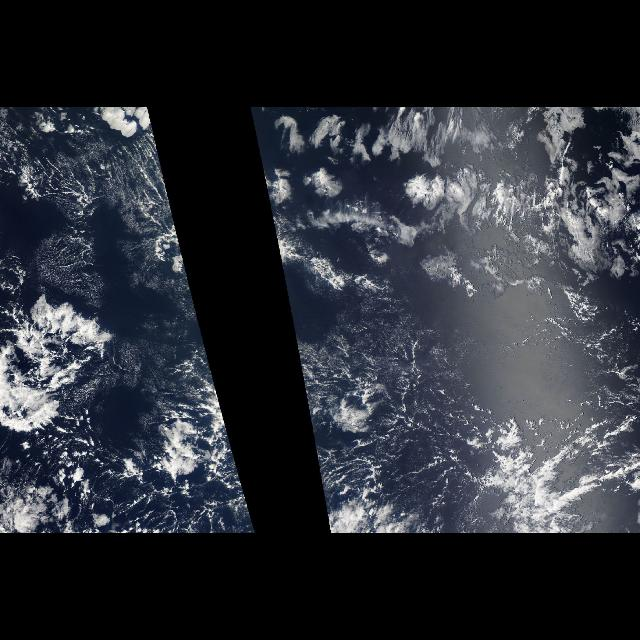Flower: (281, 117, 449, 216)
Gravel: (306, 308, 500, 510)
Sugar: (286, 285, 542, 397), (28, 134, 194, 296)
